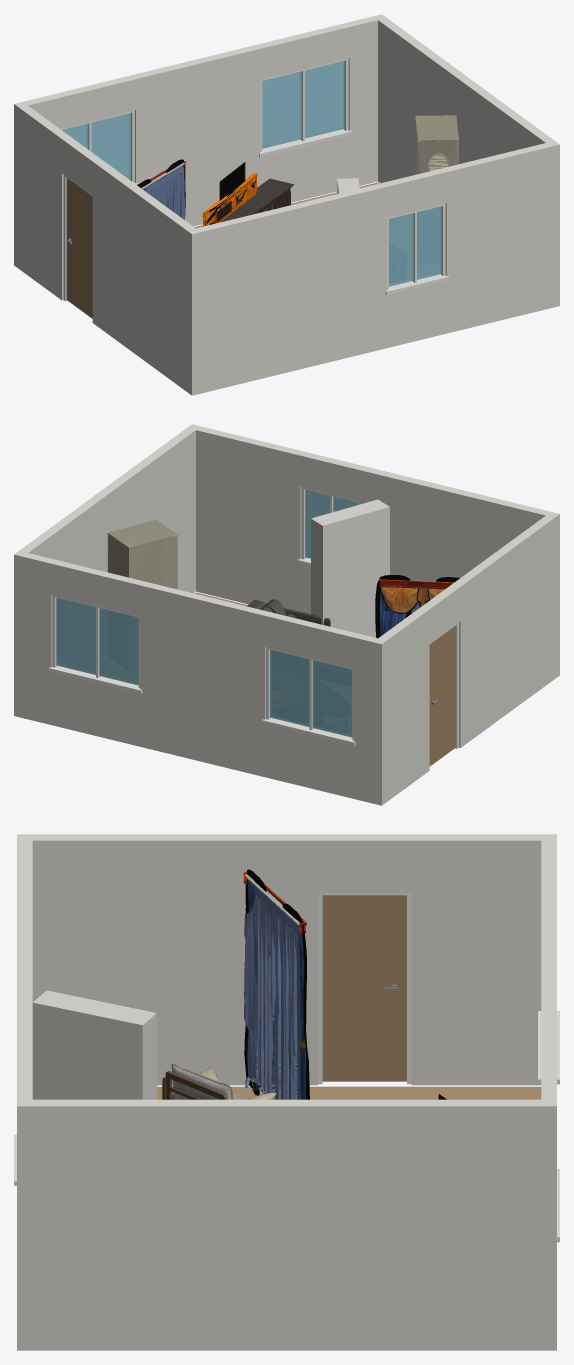
File: layoutvlm.glb
3 renders of one model, top to bottom at view 1: azimuth 30°, elevation 25°; view 2: azimuth 150°, elevation 25°; view 3: azimuth 270°, elevation 25°, orthographic. The views are drawn at different scales.
Parts seen in each view (by area): view 1: wall|scenesmith_043__R00|0, wall|scenesmith_043__R00|1, wall|scenesmith_043__R00|2, wall|scenesmith_043__R00|3, wall|scenesmith_043__R00|1 Window 0 | glazing, wall|scenesmith_043__R00|0 Window 0 | glazing, wall|scenesmith_043__R00|2 Door 0 | wood leaf, wall|scenesmith_043__R00|1 Window 0 | jamb, raw_model, scenesmith_043__R00_tv-0, scenesmith_043__R00_curtains-0, wall|scenesmith_043__R00|0 Window 0 | jamb (+2 smaller); view 2: wall|scenesmith_043__R00|1, wall|scenesmith_043__R00|0, wall|scenesmith_043__R00|2, wall|scenesmith_043__R00|3, wall|scenesmith_043__R00|1 Window 0 | glazing, scenesmith_043__R00_chimney-0 | structural enclosure, raw_model, wall|scenesmith_043__R00|1 Window 0 | jamb, wall|scenesmith_043__R00|2 Door 0 | wood leaf, scenesmith_043__R00_curtains-0, wall|scenesmith_043__R00|0 Window 0 | glazing, raw_model.005 (+1 smaller); view 3: wall|scenesmith_043__R00|3, wall|scenesmith_043__R00|2, wall|scenesmith_043__R00|2 Door 0 | wood leaf, scenesmith_043__R00_curtains-0, scenesmith_043__R00_chimney-0 | structural enclosure, wall|scenesmith_043__R00|1, wall|scenesmith_043__R00|0, floor, wall|scenesmith_043__R00|2 Door 0 | jamb, raw_model.001, wall|scenesmith_043__R00|1 Window 0 | jamb.
Part boxes in pixels (box(x1,y1,x2,y2)): wall|scenesmith_043__R00|0: box(196, 141, 559, 393); wall|scenesmith_043__R00|1: box(14, 14, 386, 268); wall|scenesmith_043__R00|2: box(14, 102, 200, 395); wall|scenesmith_043__R00|3: box(378, 18, 559, 307); wall|scenesmith_043__R00|1 Window 0 | glazing: box(62, 61, 344, 180); wall|scenesmith_043__R00|0 Window 0 | glazing: box(389, 206, 441, 286); wall|scenesmith_043__R00|2 Door 0 | wood leaf: box(66, 178, 92, 318); wall|scenesmith_043__R00|1 Window 0 | jamb: box(60, 58, 352, 184); raw_model: box(415, 115, 458, 174); scenesmith_043__R00_tv-0: box(202, 162, 257, 226); scenesmith_043__R00_curtains-0: box(137, 159, 185, 219); wall|scenesmith_043__R00|0 Window 0 | jamb: box(385, 203, 449, 294); wall|scenesmith_043__R00|1: box(14, 551, 386, 805); wall|scenesmith_043__R00|0: box(188, 424, 550, 613); wall|scenesmith_043__R00|2: box(373, 512, 559, 801); wall|scenesmith_043__R00|3: box(19, 424, 199, 593); wall|scenesmith_043__R00|1 Window 0 | glazing: box(56, 597, 352, 737); scenesmith_043__R00_chimney-0 | structural enclosure: box(311, 499, 389, 637); raw_model: box(107, 519, 177, 589); wall|scenesmith_043__R00|1 Window 0 | jamb: box(48, 595, 355, 745); wall|scenesmith_043__R00|2 Door 0 | wood leaf: box(429, 625, 455, 766); scenesmith_043__R00_curtains-0: box(375, 575, 459, 638); wall|scenesmith_043__R00|0 Window 0 | glazing: box(305, 489, 357, 558); raw_model.005: box(247, 599, 330, 626); wall|scenesmith_043__R00|3: box(17, 1099, 556, 1350); wall|scenesmith_043__R00|2: box(17, 834, 556, 1085); wall|scenesmith_043__R00|2 Door 0 | wood leaf: box(322, 895, 406, 1081); scenesmith_043__R00_curtains-0: box(243, 869, 309, 1099); scenesmith_043__R00_chimney-0 | structural enclosure: box(32, 990, 156, 1099); wall|scenesmith_043__R00|1: box(541, 840, 556, 1350); wall|scenesmith_043__R00|0: box(17, 840, 32, 1106); floor: box(157, 1086, 541, 1099); wall|scenesmith_043__R00|2 Door 0 | jamb: box(318, 892, 411, 1084); raw_model.001: box(162, 1063, 276, 1099); wall|scenesmith_043__R00|1 Window 0 | jamb: box(538, 1011, 559, 1242).
Bounding box in the file's own units: 6.2 × 2.61 × 5.26.
Materials: 15 (7 with a texture image).
